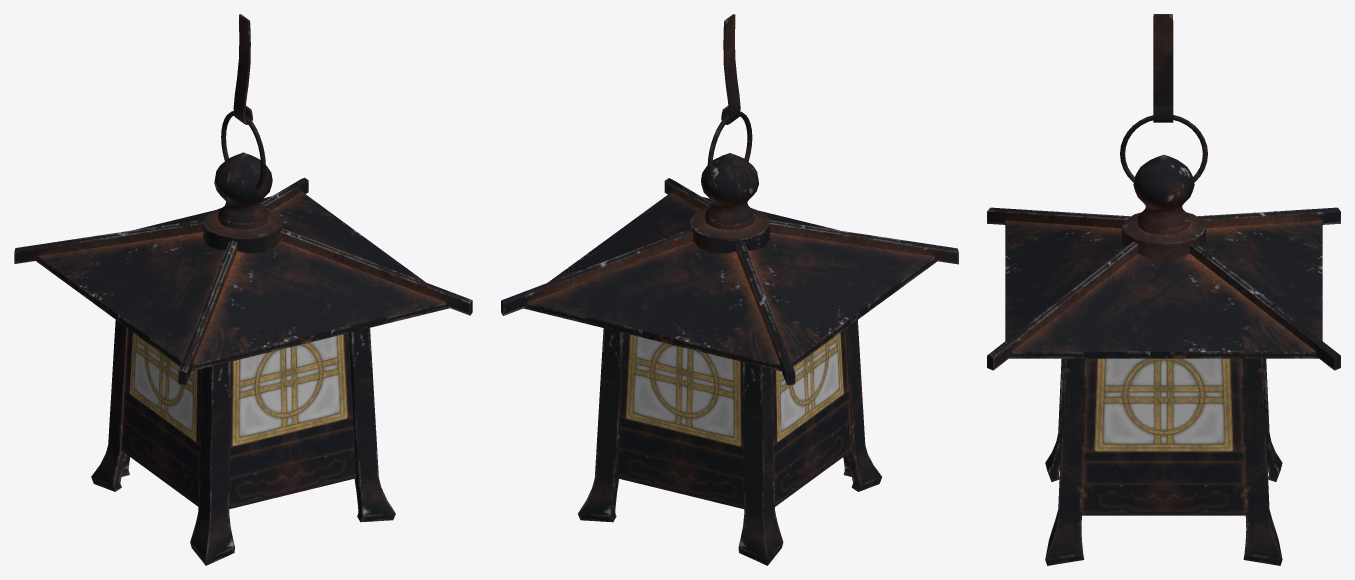
The model's file is Lamp_A_01.fbx.
3 views of the same model, side by side, from view 1: azimuth 30°, elevation 25°; view 2: azimuth 150°, elevation 25°; view 3: azimuth 270°, elevation 25° (orthographic). The views are drawn at different scales.
Parts seen in each view (by area): view 1: Lamp_A_01_Body, Lamp_A_01; view 2: Lamp_A_01_Body, Lamp_A_01; view 3: Lamp_A_01_Body, Lamp_A_01.
Boxes of the visible parts, left/top/right/bottom form: Lamp_A_01_Body: left=14, top=111, right=472, bottom=565; Lamp_A_01: left=233, top=14, right=252, bottom=124; Lamp_A_01_Body: left=501, top=111, right=958, bottom=565; Lamp_A_01: left=721, top=14, right=740, bottom=124; Lamp_A_01_Body: left=987, top=115, right=1340, bottom=565; Lamp_A_01: left=1153, top=14, right=1173, bottom=122.
Size of the model in its own units: 0.3636 by 0.5718 by 0.3636.
